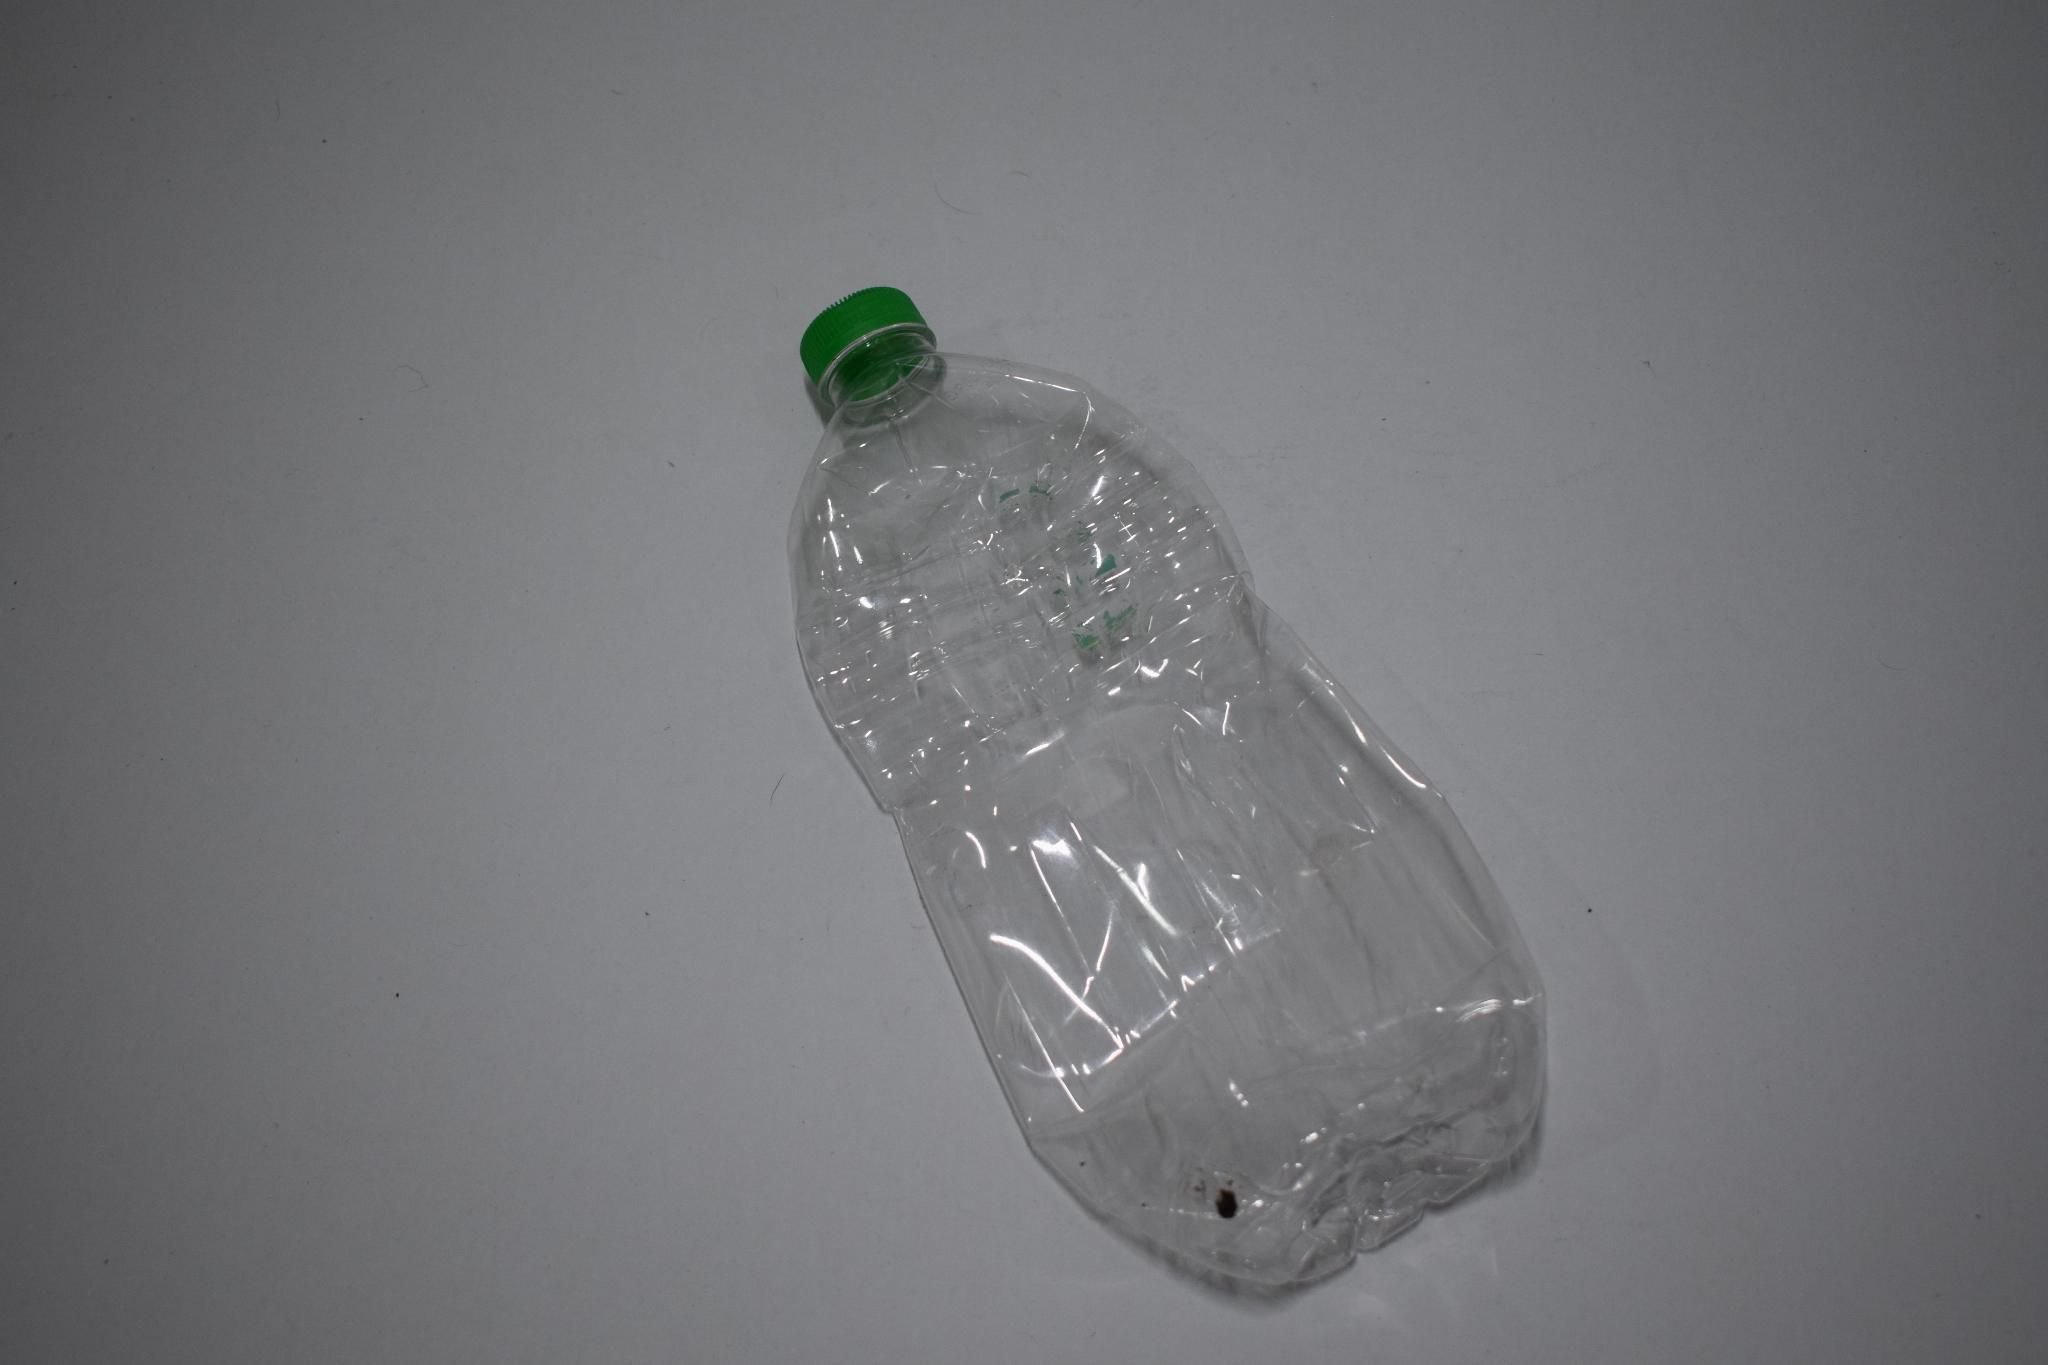bottle: (754, 238, 1596, 1313)
